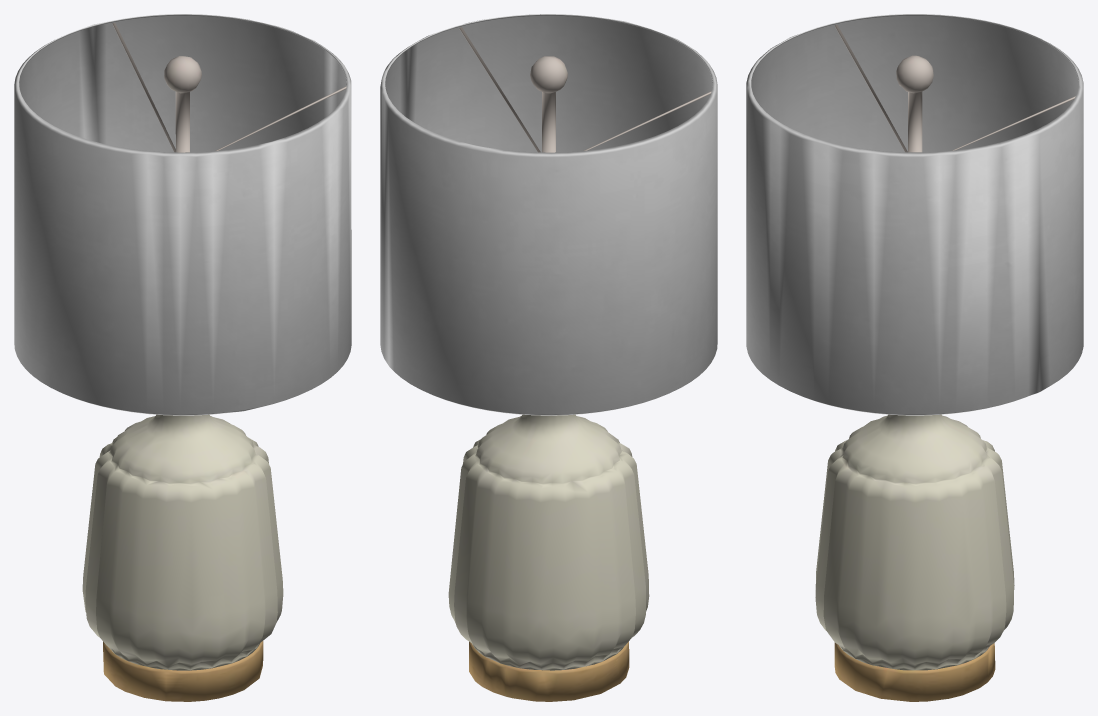
The model's file is abo-B0825DDW4S.glb.
3 views of the same model, side by side, from view 1: azimuth 30°, elevation 25°; view 2: azimuth 150°, elevation 25°; view 3: azimuth 270°, elevation 25° (orthographic).
Visible parts, largest first — view 1: RootNode; view 2: RootNode; view 3: RootNode.
Part boxes in pixels (x1,y1,x2,y2): RootNode: (14,14,351,701); RootNode: (380,14,717,701); RootNode: (746,14,1083,701).
Bounding box in the file's own units: 0.2516 × 0.5029 × 0.2516.
1 material, 1 textured.
